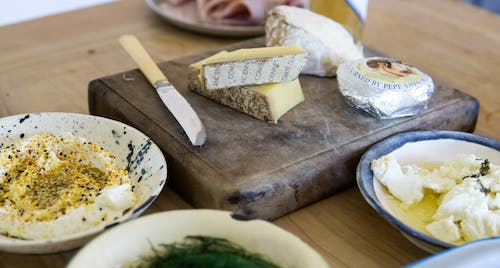knife: (118, 34, 208, 146)
